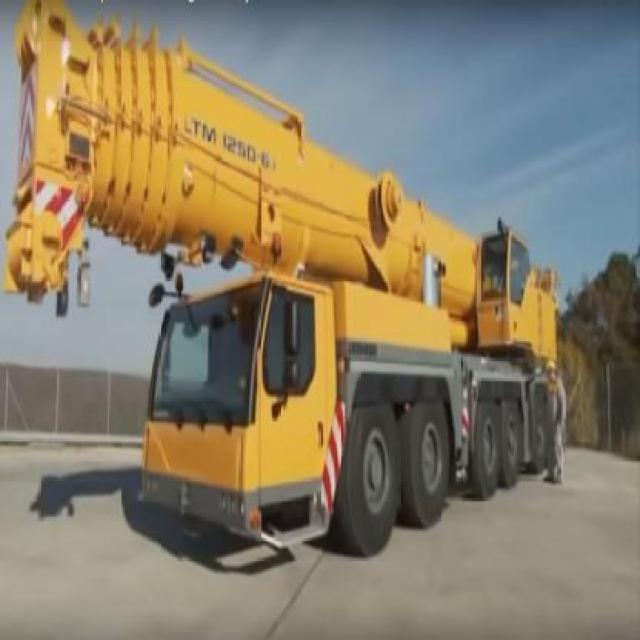Mobile Crane: (10, 1, 561, 562)
